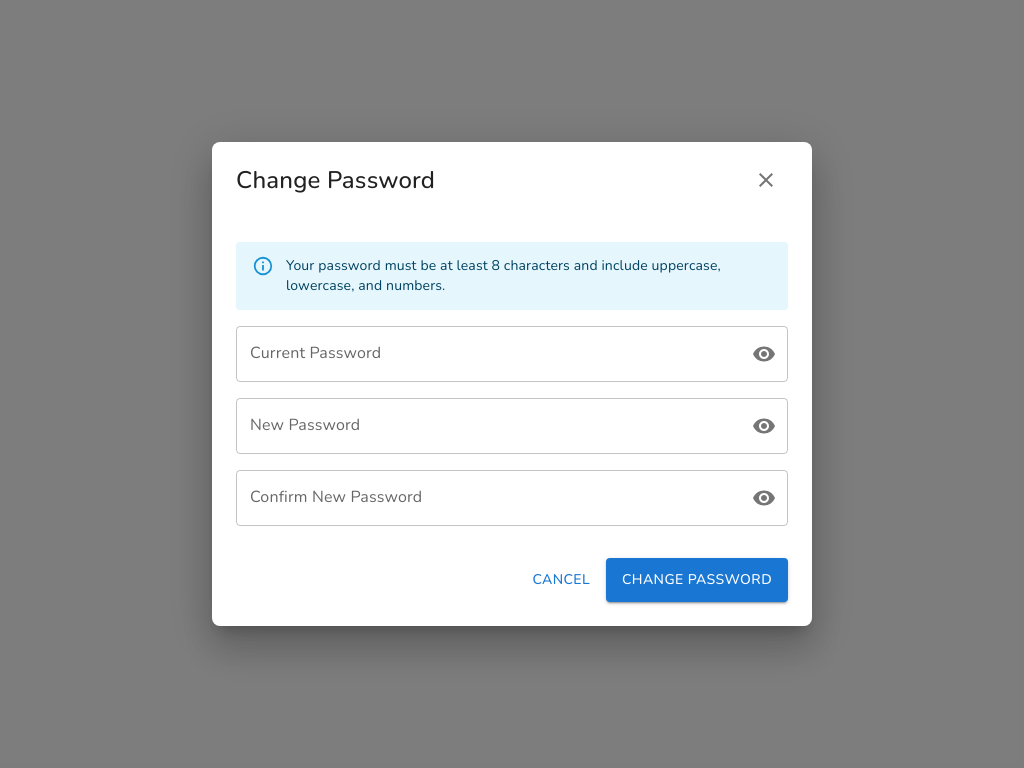
it: ChangePasswordDialog › Form Validation › should show error when password is too short
Type "OldPass123" into the password field labelled "Current Password" at (485,354), box [236,326,734,382]
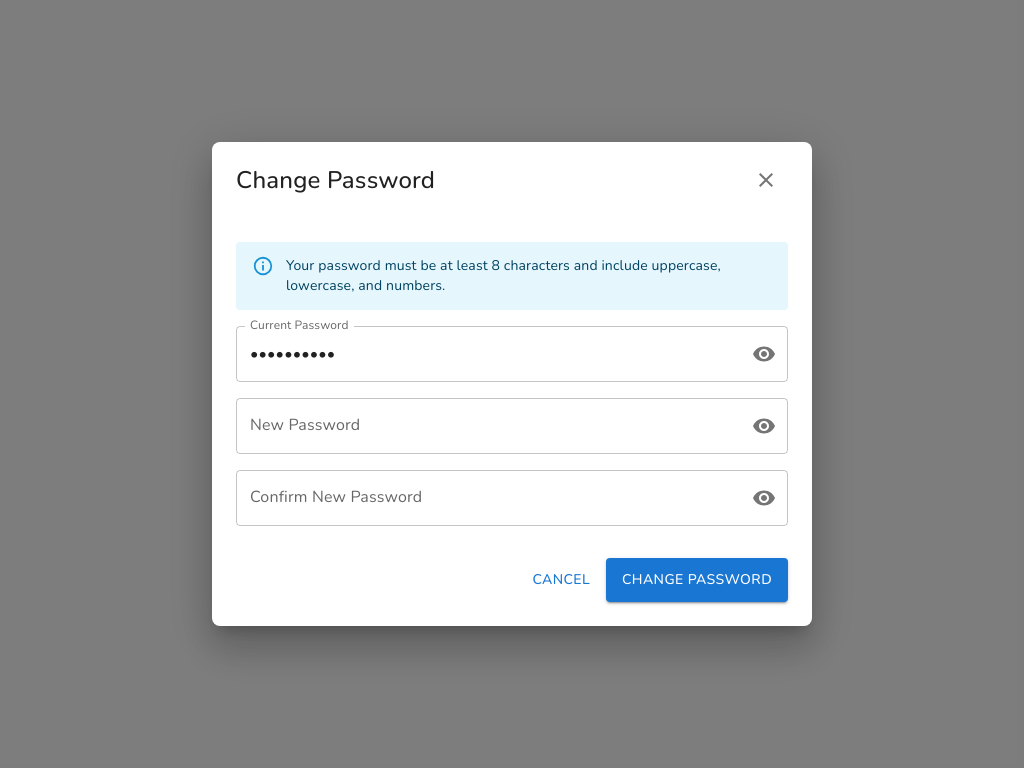
Type "Short1" into the password field labelled "New Password" at (485,426), box [236,398,734,454]
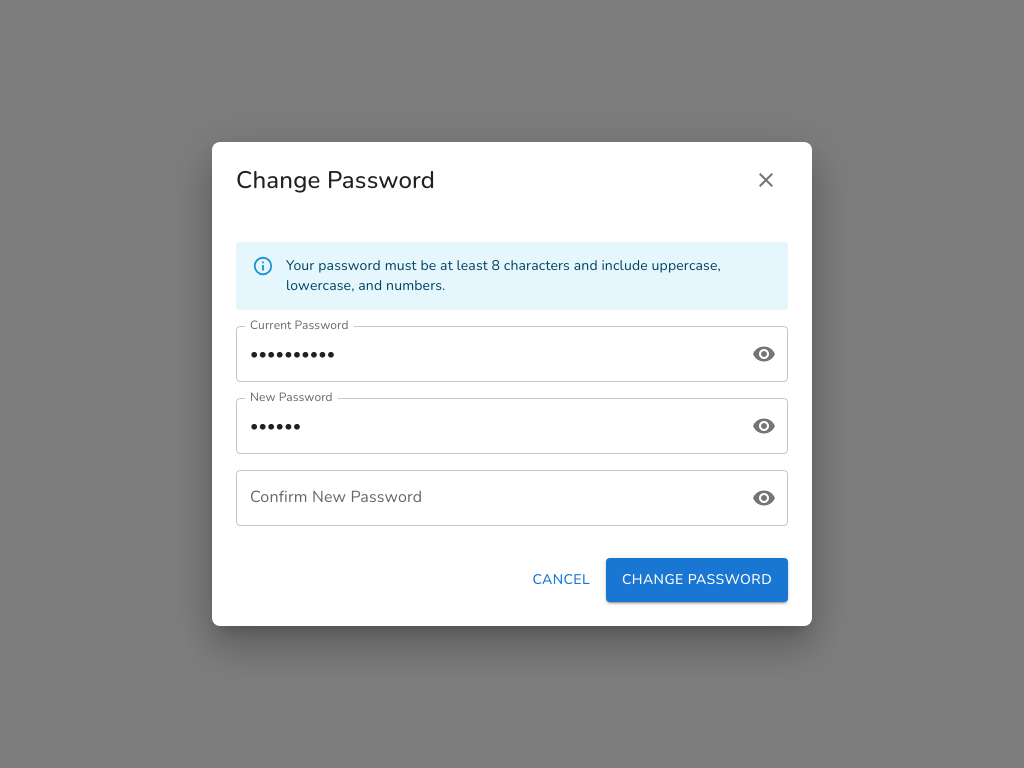
Click the button "Change Password" at (697,580), box [606,558,788,602]
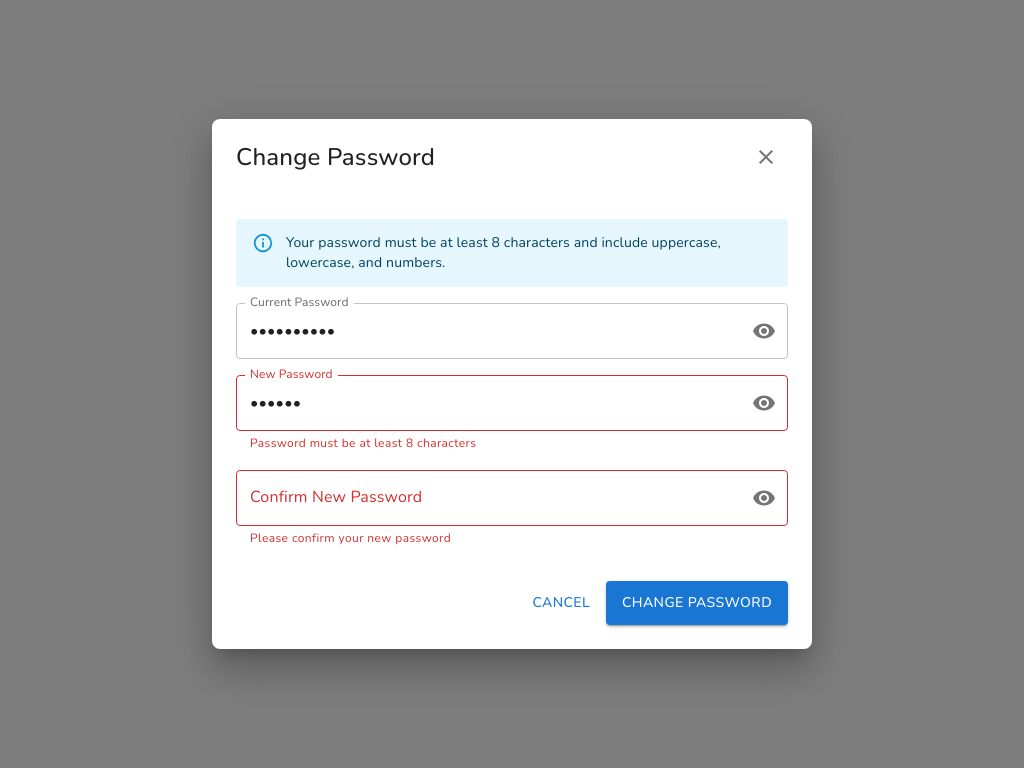
Expected: the text "Password must be at least 8 characters" is shown, [250,435,476,451]
